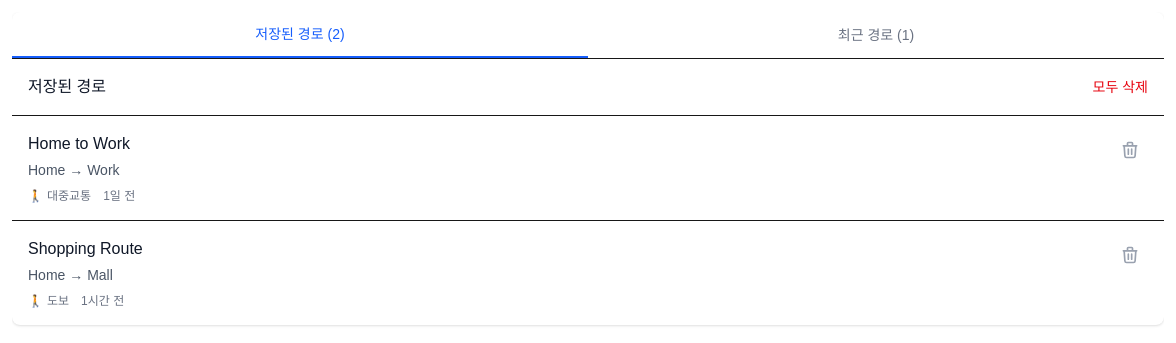
Scenario: SavedRoutesList › should handle tab switching between saved and history
Click the tab "최근 경로 (1)".
click(876, 35)  # box [588, 12, 1164, 58]
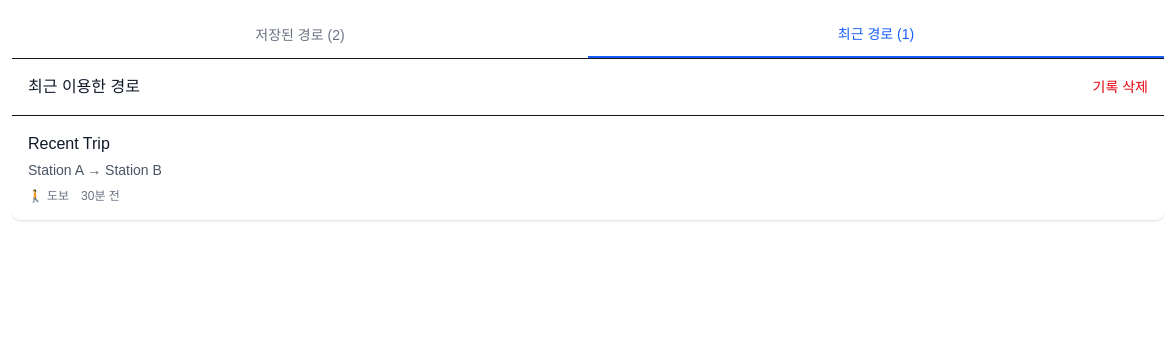
Check: the text "Recent Trip" is shown, box [28, 135, 110, 152]
Click the tab "저장된 경로 (2)".
click(300, 35)  # box [12, 12, 588, 58]
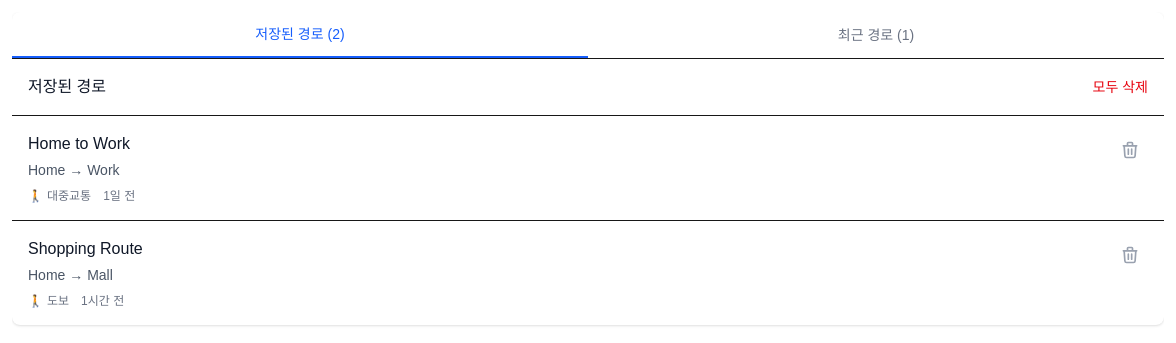
Check: the text "Home to Work" is shown, box [28, 135, 130, 152]
